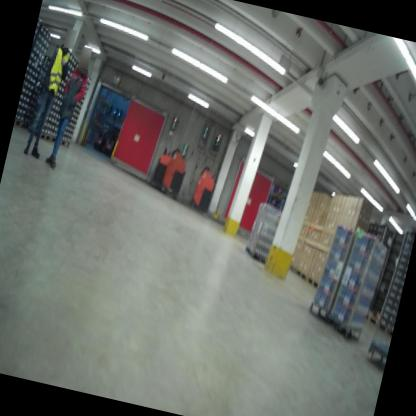pallet: (25, 125, 54, 144), (365, 312, 379, 327), (58, 135, 72, 149), (49, 134, 61, 146), (14, 117, 25, 127)
pallet_truck: (184, 154, 229, 220), (155, 141, 198, 208), (150, 140, 186, 201)
